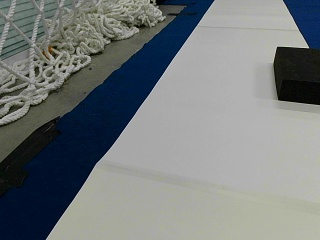block: (273, 45, 319, 104)
